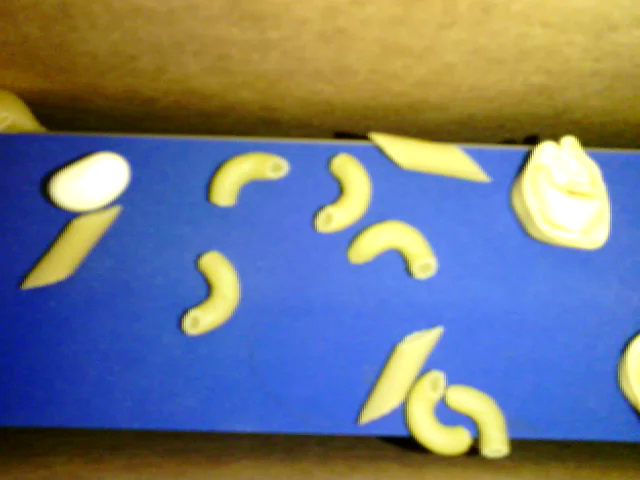elbow: (407, 368, 471, 456), (348, 221, 440, 278), (180, 248, 238, 336), (313, 152, 371, 234), (446, 386, 510, 458), (206, 152, 290, 205), (1, 107, 12, 132)
penne: (354, 326, 442, 425), (20, 202, 121, 288), (364, 127, 492, 183)
shell: (1, 90, 50, 131)
tortellini: (510, 133, 610, 247), (616, 331, 639, 423)
